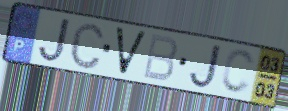B: (141, 32, 179, 84)
C: (68, 21, 106, 72), (219, 48, 257, 97)
J: (187, 42, 224, 90), (36, 16, 73, 64)
V: (113, 25, 149, 78)
